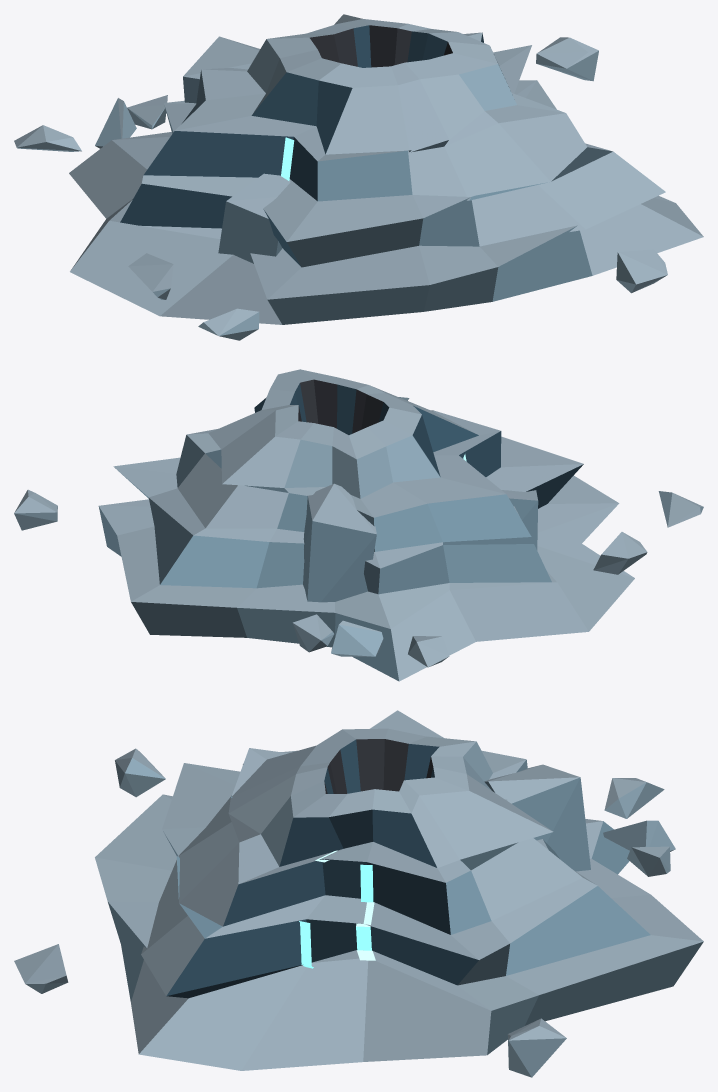
The model's file is geyser.glb.
The picture shows the model from 3 angles, top to bottom: view 1: azimuth 30°, elevation 25°; view 2: azimuth 150°, elevation 25°; view 3: azimuth 270°, elevation 25°; orthographic projection. The views are drawn at different scales.
Parts seen in each view (by area): view 1: geyser; view 2: geyser; view 3: geyser.
Boxes of the visible parts, box(x1,y1,x2,y2) form: geyser: box(14, 14, 703, 340); geyser: box(14, 369, 703, 681); geyser: box(14, 710, 703, 1077).
Bounding box in the file's own units: 10.82 × 3.42 × 10.42.
